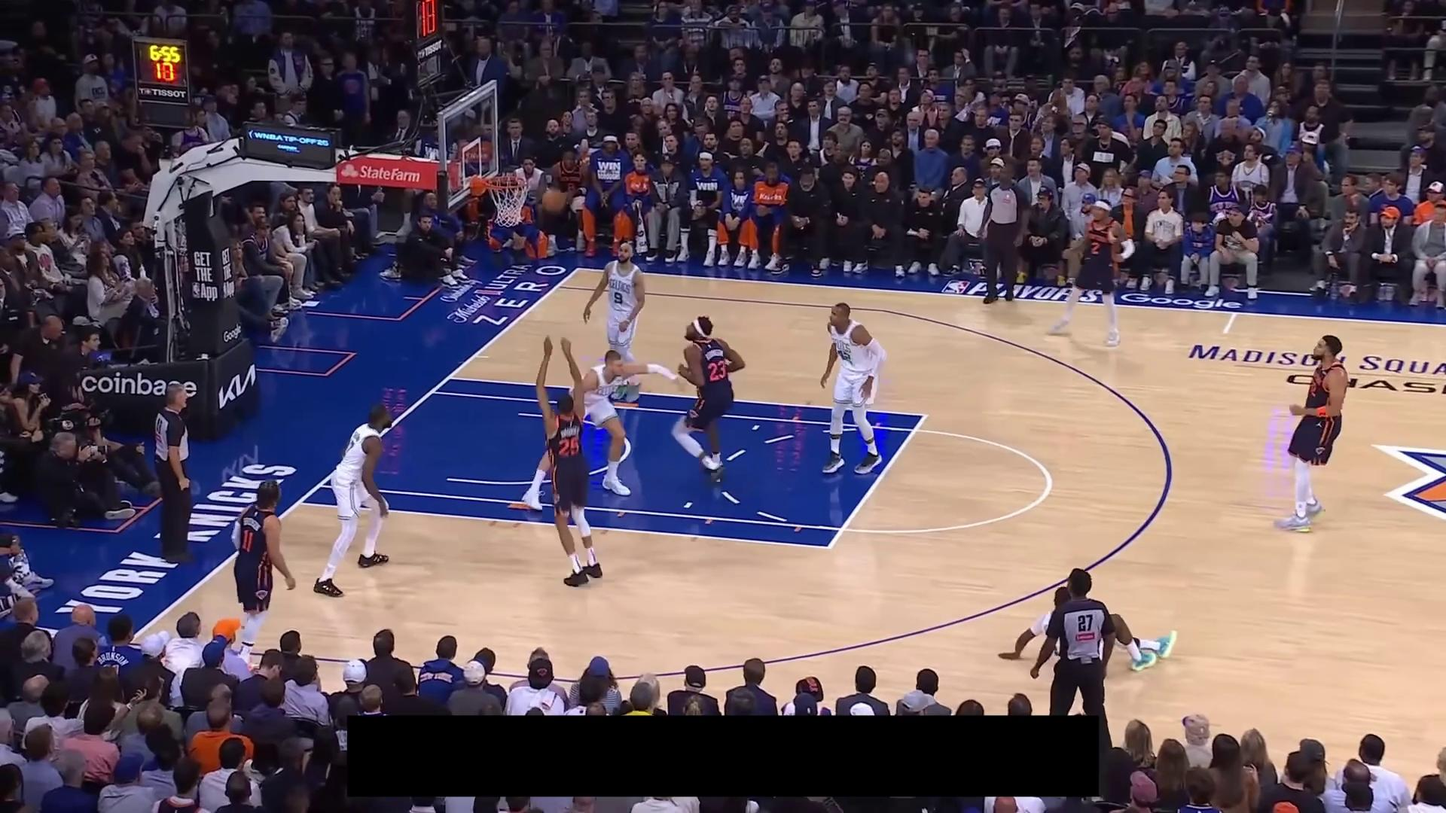ball: (543, 188, 566, 212)
number: (707, 358, 727, 382), (558, 436, 581, 456), (241, 529, 254, 553), (612, 290, 624, 306), (1091, 241, 1101, 255)
player: (522, 349, 685, 511), (535, 336, 603, 586), (312, 401, 397, 598), (998, 586, 1179, 672), (1273, 333, 1350, 534), (1046, 196, 1135, 349), (669, 315, 748, 486), (230, 479, 297, 670), (818, 300, 889, 477), (583, 243, 646, 402)
referee: (1030, 568, 1117, 714), (152, 382, 197, 562), (978, 161, 1032, 304)
rim: (484, 174, 528, 190)
